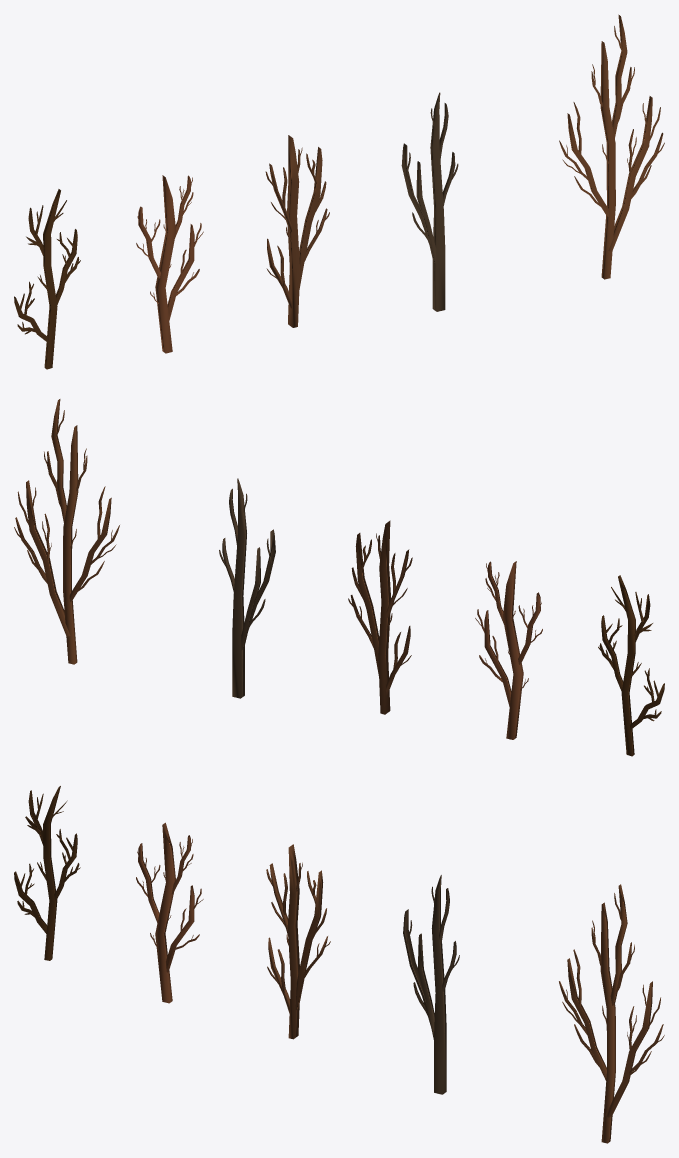
The model's file is ветки.fbx.
3 renders of one model, top to bottom at view 1: azimuth 30°, elevation 25°; view 2: azimuth 150°, elevation 25°; view 3: azimuth 330°, elevation 25°, orthographic.
Parts seen in each view (by area): view 1: Cube.023, Cube.031, Cube.020, Cube.038, Cube.017; view 2: Cube.023, Cube.031, Cube.020, Cube.038, Cube.017; view 3: Cube.023, Cube.031, Cube.020, Cube.038, Cube.017.
Boxes of the visible parts, x1=… form: Cube.023: x1=559, y1=14, x2=664, y2=279; Cube.031: x1=265, y1=135, x2=329, y2=327; Cube.020: x1=401, y1=92, x2=458, y2=311; Cube.038: x1=136, y1=175, x2=203, y2=353; Cube.017: x1=14, y1=189, x2=80, y2=369; Cube.023: x1=14, y1=399, x2=119, y2=664; Cube.031: x1=348, y1=520, x2=412, y2=714; Cube.020: x1=219, y1=478, x2=275, y2=698; Cube.038: x1=475, y1=561, x2=542, y2=739; Cube.017: x1=598, y1=575, x2=664, y2=756; Cube.023: x1=559, y1=884, x2=664, y2=1143; Cube.031: x1=266, y1=844, x2=330, y2=1039; Cube.020: x1=403, y1=875, x2=459, y2=1094; Cube.038: x1=136, y1=822, x2=203, y2=1003; Cube.017: x1=14, y1=786, x2=80, y2=960.
Size of the model in its own units: 3676 by 1404 by 51.85.
